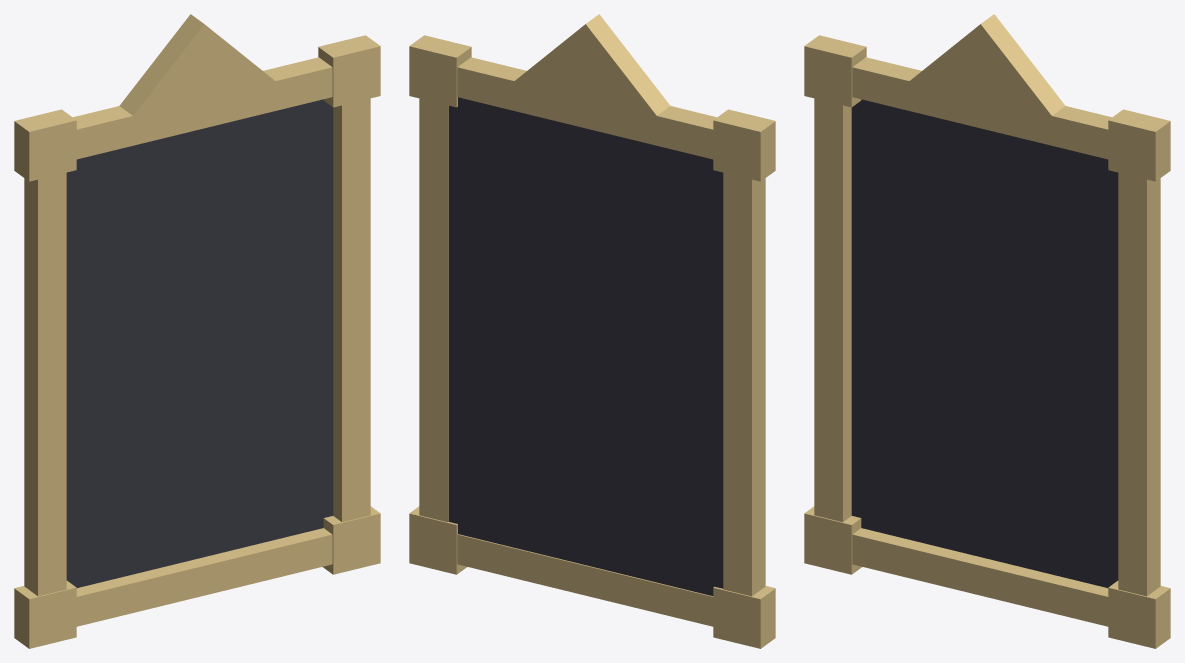
The model's file is vampire-crypt-and-gothic-cathedral-portrait-frame-e550fa26__23030.glb.
3 renders of one model, left to right at view 1: azimuth 30°, elevation 25°; view 2: azimuth 150°, elevation 25°; view 3: azimuth 330°, elevation 25°, orthographic.
Visible parts, largest first — view 1: portrait-frame; view 2: portrait-frame; view 3: portrait-frame.
Boxes of the visible parts, x1,y1,x2,y2 form: portrait-frame: (14,14,380,648); portrait-frame: (409,14,775,648); portrait-frame: (804,14,1170,648).
Bounding box in the file's own units: 1.48 × 2.34 × 0.11.
